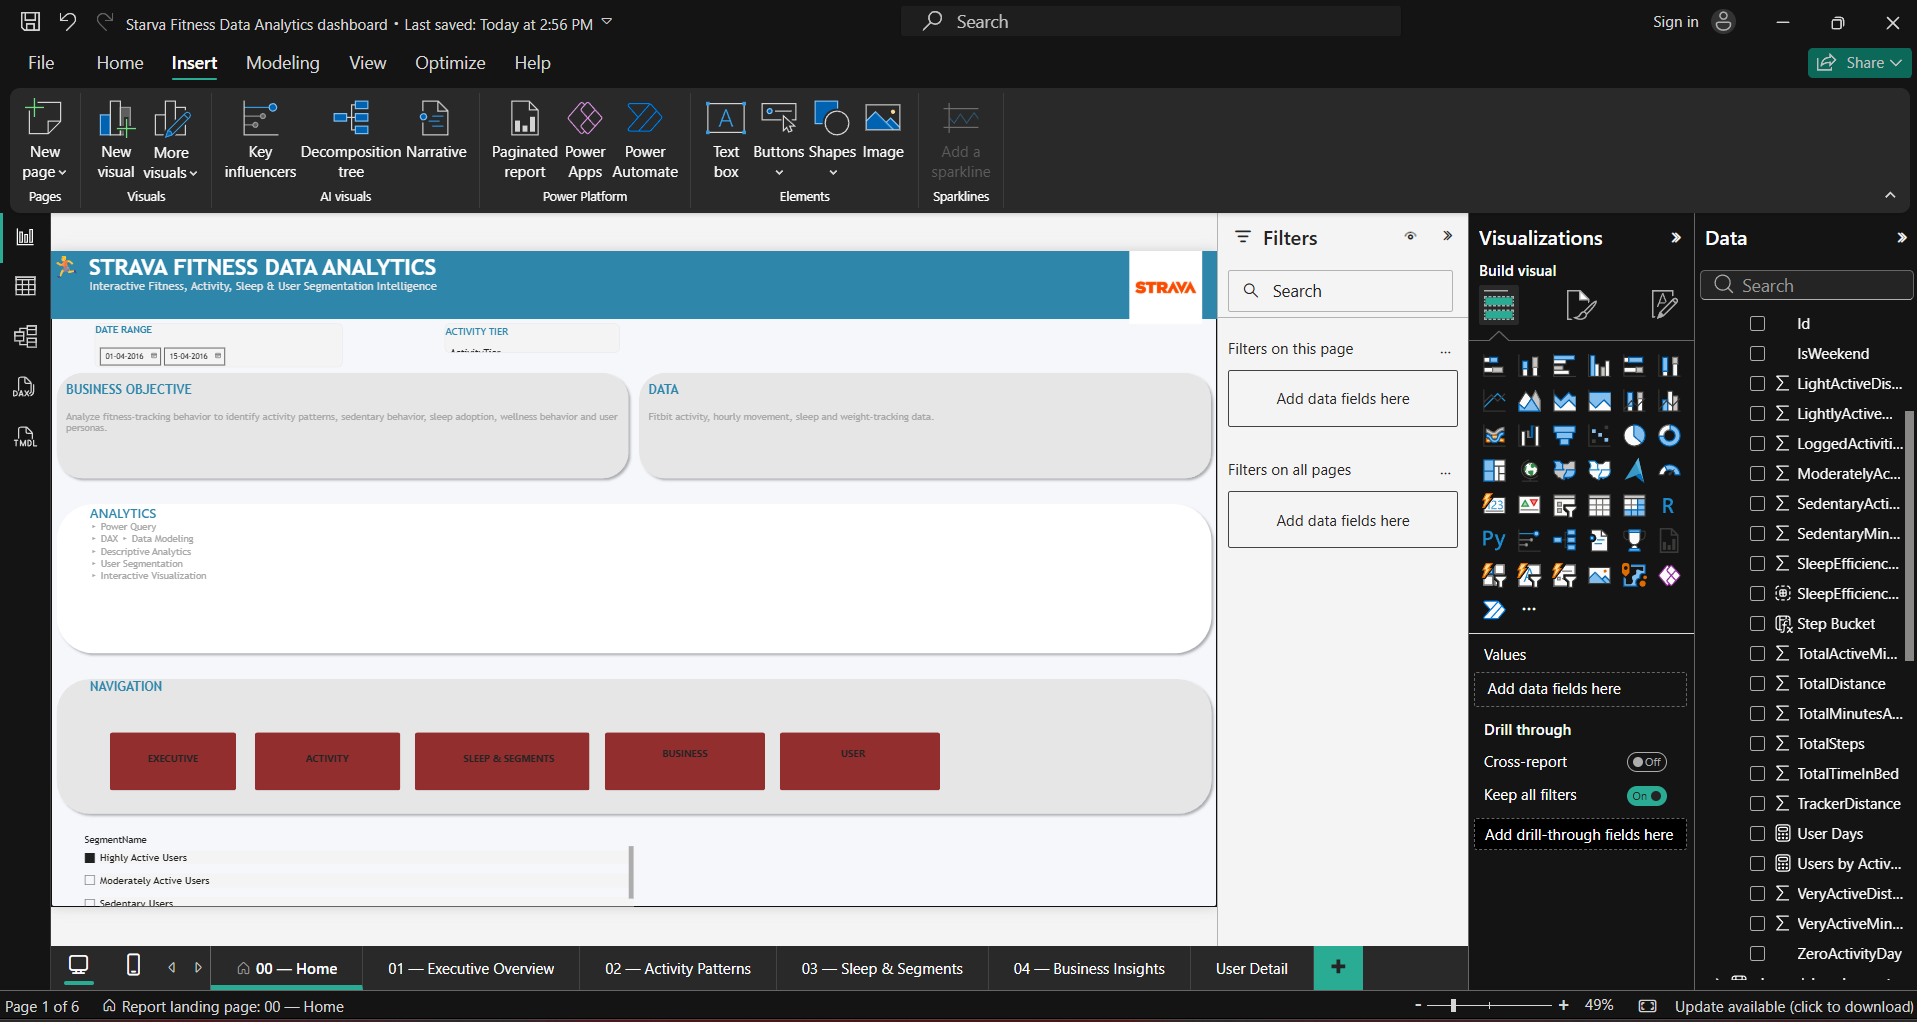

The page's visual inventory and layout, read from the dashboard file:
{"tool":"powerbi","page":{"name":"00 — Home","canvas":[1920,1080],"ordinal":0},"visuals":[{"type":"shape","box":[0,0,1920,112],"z":0},{"type":"textbox","box":[0,0,720,112],"z":1000},{"type":"textbox","box":[64,48,1712,32],"z":2000},{"type":"shape","box":[0,192,960,192],"z":3000},{"type":"textbox","box":[24,216,912,80],"z":4000},{"type":"textbox","box":[24,264,912,48],"z":5000},{"type":"shape","box":[960,192,960,192],"z":6000},{"type":"textbox","box":[984,216,368,80],"z":7000},{"type":"textbox","box":[984,264,528,160],"z":8000},{"type":"shape","box":[0,408,1920,264],"z":9000},{"type":"textbox","box":[64,416,1712,144],"z":10000},{"type":"shape","box":[0,696,1920,240],"z":11000},{"type":"textbox","box":[64,704,256,48],"z":12000},{"type":"actionButton","box":[96,792,208,96],"z":13000},{"type":"textbox","box":[96,792,208,80],"z":14000},{"type":"actionButton","box":[336,792,240,96],"z":15000},{"type":"textbox","box":[360,792,176,80],"z":16000},{"type":"actionButton","box":[600,792,288,96],"z":17000},{"type":"textbox","box":[600,792,288,72],"z":18000},{"type":"slicer","title":"DATE RANGE","fields":{"Values":["DateDim.Date"]},"box":[72,120,408,72],"z":19000},{"type":"slicer","title":"ACTIVITY TIER","fields":{"Values":["cleaned_daily_master.ActivityTier"]},"box":[648,120,288,48],"z":20000},{"type":"slicer","title":"Segment Profile Summary","fields":{"Values":["user_segments.SegmentName"]},"box":[48,960,912,120],"z":21000},{"type":"actionButton","box":[912,792,264,96],"z":22000},{"type":"textbox","box":[912,816,264,48],"z":23000},{"type":"actionButton","box":[1200,792,264,96],"z":24000},{"type":"textbox","box":[1224,816,192,72],"z":25000},{"type":"image","box":[1752,0,168,120],"z":26000}]}

Visuals, with their boxes on the page's 1920x1080 design canvas (x1, y1, x2, y2). These are canvas units, not pixel positions in the 1917x1022 screenshot, which may show the page scaled, cropped or inside an application window:
shape: <box>0,0,1920,112</box>
textbox: <box>0,0,720,112</box>
textbox: <box>64,48,1776,80</box>
shape: <box>0,192,960,384</box>
textbox: <box>24,216,936,296</box>
textbox: <box>24,264,936,312</box>
shape: <box>960,192,1920,384</box>
textbox: <box>984,216,1352,296</box>
textbox: <box>984,264,1512,424</box>
shape: <box>0,408,1920,672</box>
textbox: <box>64,416,1776,560</box>
shape: <box>0,696,1920,936</box>
textbox: <box>64,704,320,752</box>
actionButton: <box>96,792,304,888</box>
textbox: <box>96,792,304,872</box>
actionButton: <box>336,792,576,888</box>
textbox: <box>360,792,536,872</box>
actionButton: <box>600,792,888,888</box>
textbox: <box>600,792,888,864</box>
"DATE RANGE" slicer: <box>72,120,480,192</box>
"ACTIVITY TIER" slicer: <box>648,120,936,168</box>
"Segment Profile Summary" slicer: <box>48,960,960,1080</box>
actionButton: <box>912,792,1176,888</box>
textbox: <box>912,816,1176,864</box>
actionButton: <box>1200,792,1464,888</box>
textbox: <box>1224,816,1416,888</box>
image: <box>1752,0,1920,120</box>
